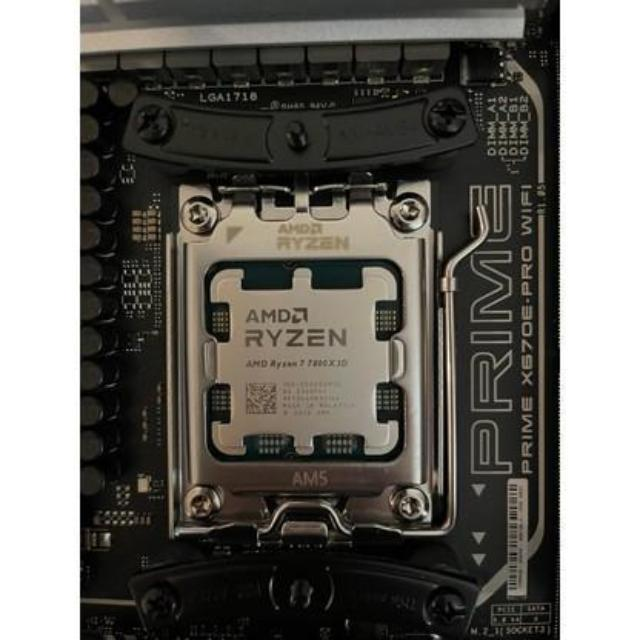CPU: (197, 262, 408, 462)
